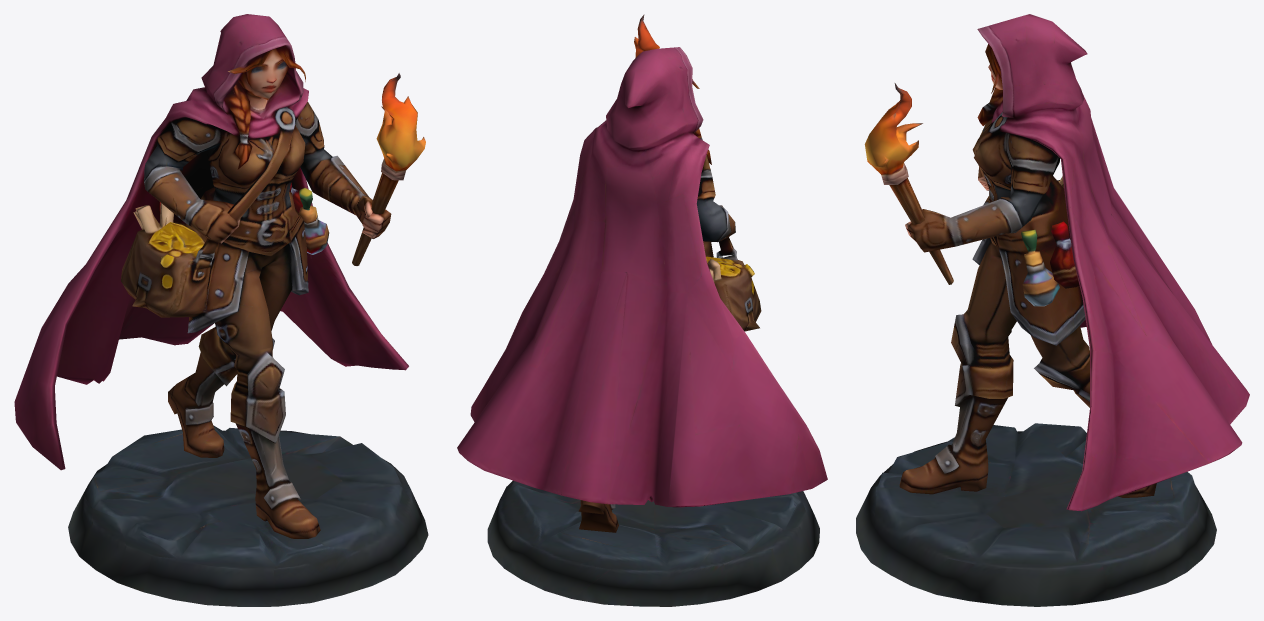
Rendered from hero8.glb.
3 views of the same model, side by side, from view 1: azimuth 30°, elevation 25°; view 2: azimuth 150°, elevation 25°; view 3: azimuth 270°, elevation 25° (orthographic). The views are drawn at different scales.
Parts seen in each view (by area): view 1: geometry_0; view 2: geometry_0; view 3: geometry_0.
Part boxes in pixels (x1,y1,x2,y2): geometry_0: [14, 14, 428, 606]; geometry_0: [457, 14, 827, 606]; geometry_0: [856, 14, 1249, 606].
Bounding box in the file's own units: 0.7143 × 0.9526 × 0.6582.
1 material, 1 textured.
